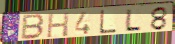4: (75, 11, 92, 36)
8: (149, 5, 169, 32)
B: (20, 13, 46, 41)
H: (46, 12, 71, 39)
L: (98, 9, 118, 35), (123, 8, 143, 32)
